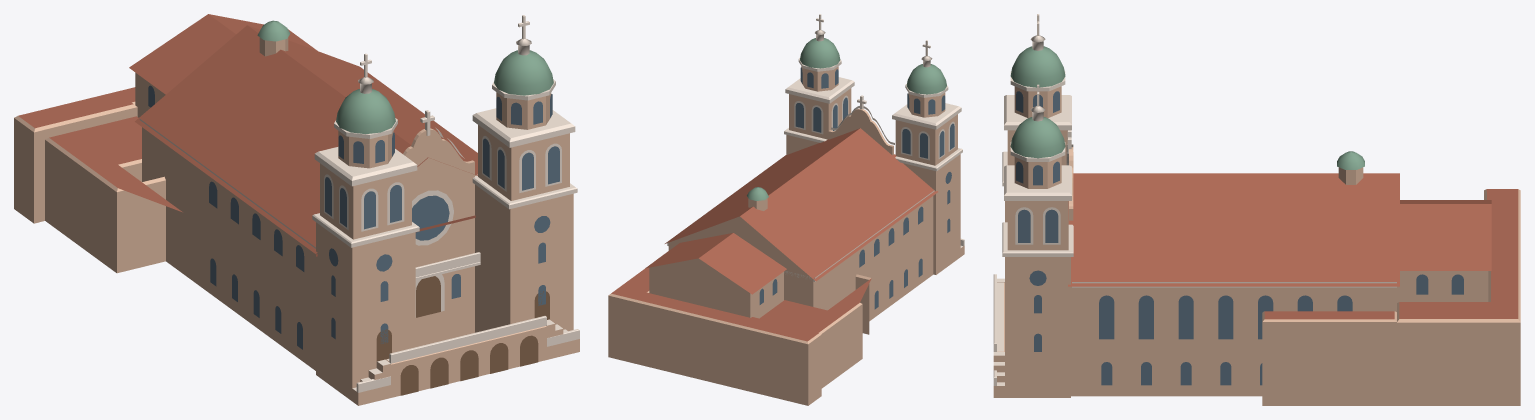
Rendered from phx-st-marys-basilica.glb.
The picture shows the model from 3 angles, left to right: view 1: azimuth 30°, elevation 25°; view 2: azimuth 150°, elevation 25°; view 3: azimuth 270°, elevation 25°; orthographic projection. The views are drawn at different scales.
Parts seen in each view (by area): view 1: St. Mary's Basilica; view 2: St. Mary's Basilica; view 3: St. Mary's Basilica.
Boxes of the visible parts, x1,y1,x2,y2 form: St. Mary's Basilica: (14,14,579,405); St. Mary's Basilica: (608,14,964,405); St. Mary's Basilica: (993,14,1520,405).
Bounding box in the file's own units: 30.73 × 32.4 × 51.82.
